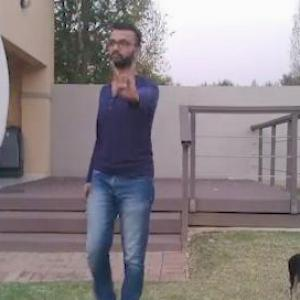takeoff-hand: (105, 53, 146, 107)
